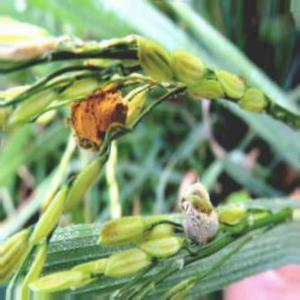Leaf_Scald: (70, 83, 128, 151)
